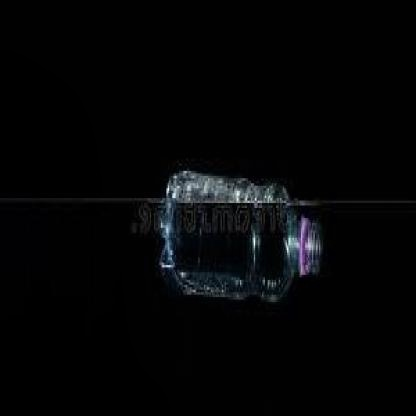pbottle: (150, 164, 324, 297)
